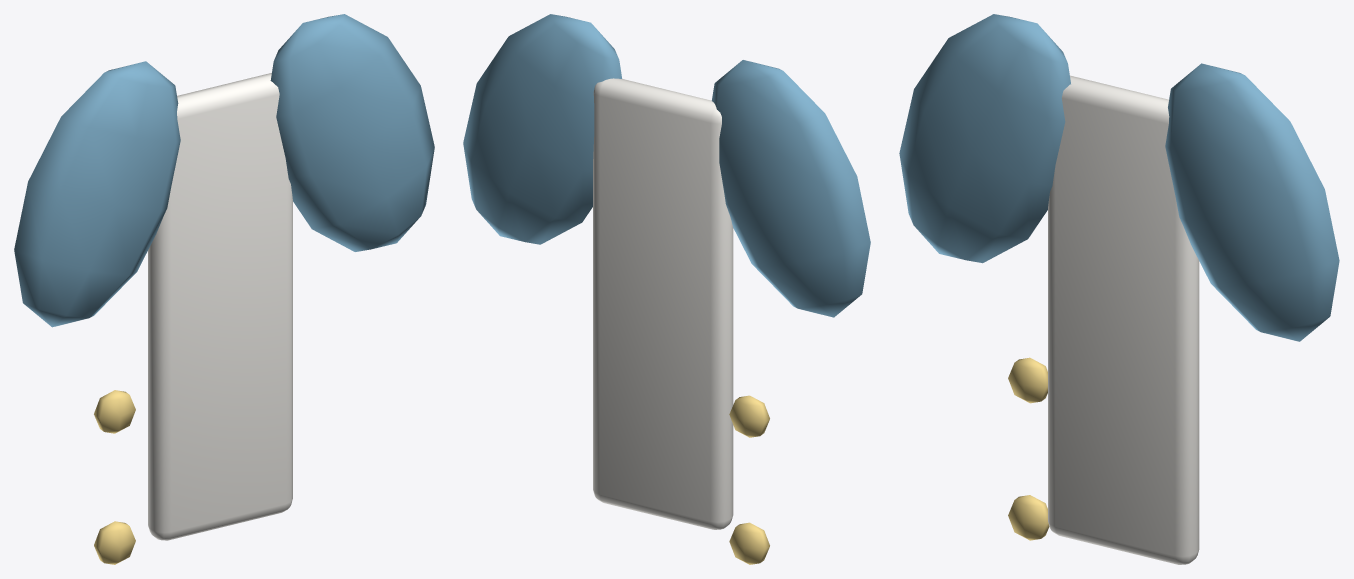
Rendered from Top_Jacket.fbx.
3 renders of one model, left to right at view 1: azimuth 30°, elevation 25°; view 2: azimuth 150°, elevation 25°; view 3: azimuth 330°, elevation 25°, orthographic. The views are drawn at different scales.
Parts seen in each view (by area): view 1: Jacket_Inner, Collar_Lapel.001, Collar_Lapel, Jacket_Button, Jacket_Button.001; view 2: Jacket_Inner, Collar_Lapel.001, Collar_Lapel, Jacket_Button, Jacket_Button.001; view 3: Jacket_Inner, Collar_Lapel, Collar_Lapel.001, Jacket_Button.001, Jacket_Button.
Part boxes in pixels (x1,y1,x2,y2): Jacket_Inner: (148, 73, 292, 540); Collar_Lapel.001: (14, 61, 180, 327); Collar_Lapel: (270, 14, 434, 251); Jacket_Button: (94, 390, 135, 433); Jacket_Button.001: (94, 521, 135, 564); Jacket_Inner: (593, 78, 733, 529); Collar_Lapel.001: (711, 60, 870, 317); Collar_Lapel: (463, 14, 622, 244); Jacket_Button: (729, 395, 769, 437); Jacket_Button.001: (729, 522, 769, 564); Jacket_Inner: (1048, 75, 1199, 564); Collar_Lapel: (1165, 63, 1339, 341); Collar_Lapel.001: (899, 14, 1070, 263); Jacket_Button.001: (1008, 495, 1049, 540); Jacket_Button: (1008, 357, 1047, 403).
Size of the model in its own units: 30.2 by 34.84 by 4.25.
